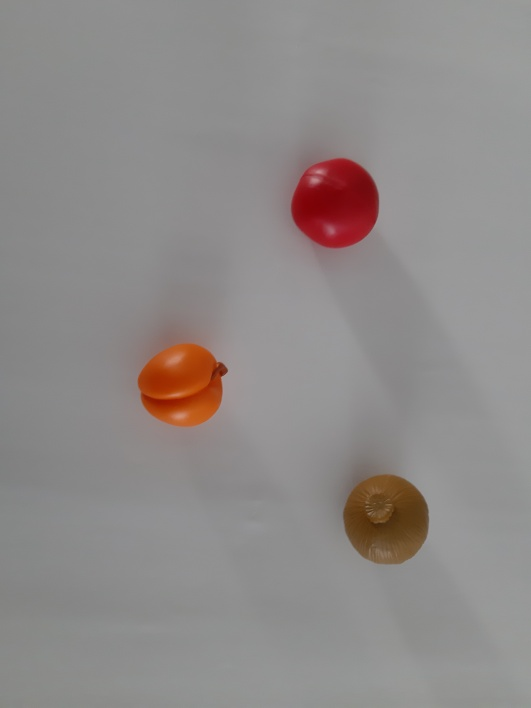apricot: (115, 321, 253, 447)
onion: (317, 455, 449, 590)
tomato: (268, 137, 430, 280)
